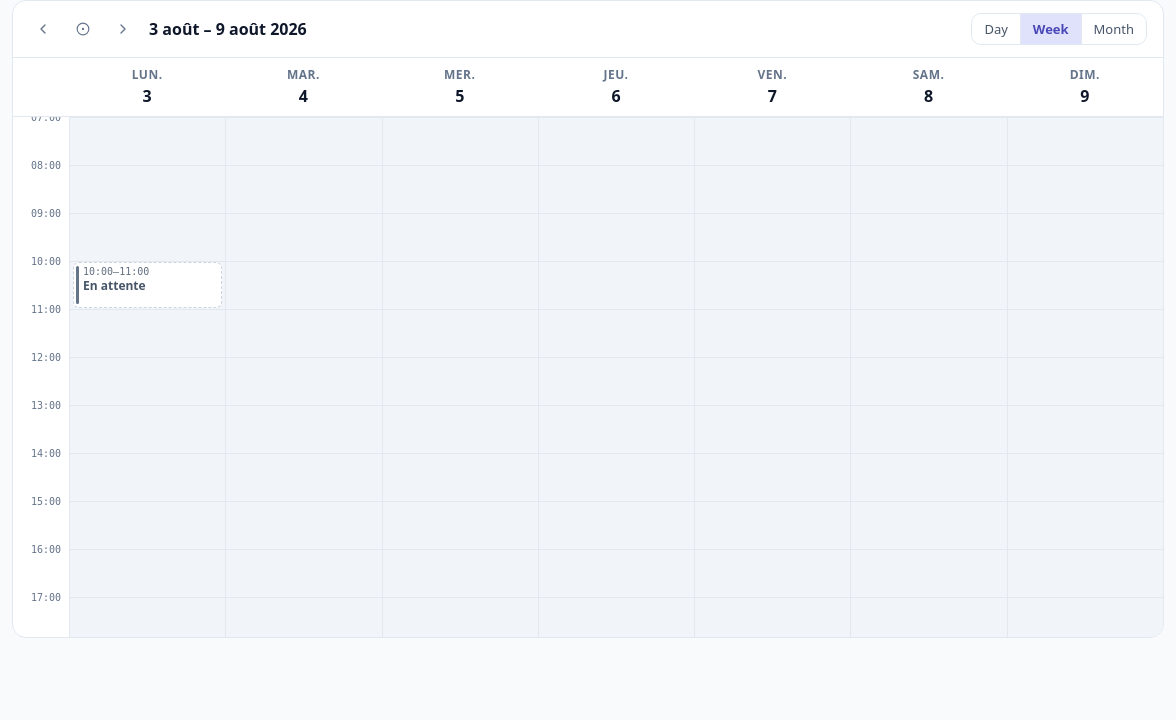
it: CalendarView › uses Intl headings, switches to the month grid, and preserves the same kind modifiers
The width and height of the screenshot is (1176, 720).
expect the text with class "lyra-calview__title" shows "août": met, box [149,18,307,40]
Click the button "Month": {"x": 1113, "y": 29} [1081,14,1146,44]
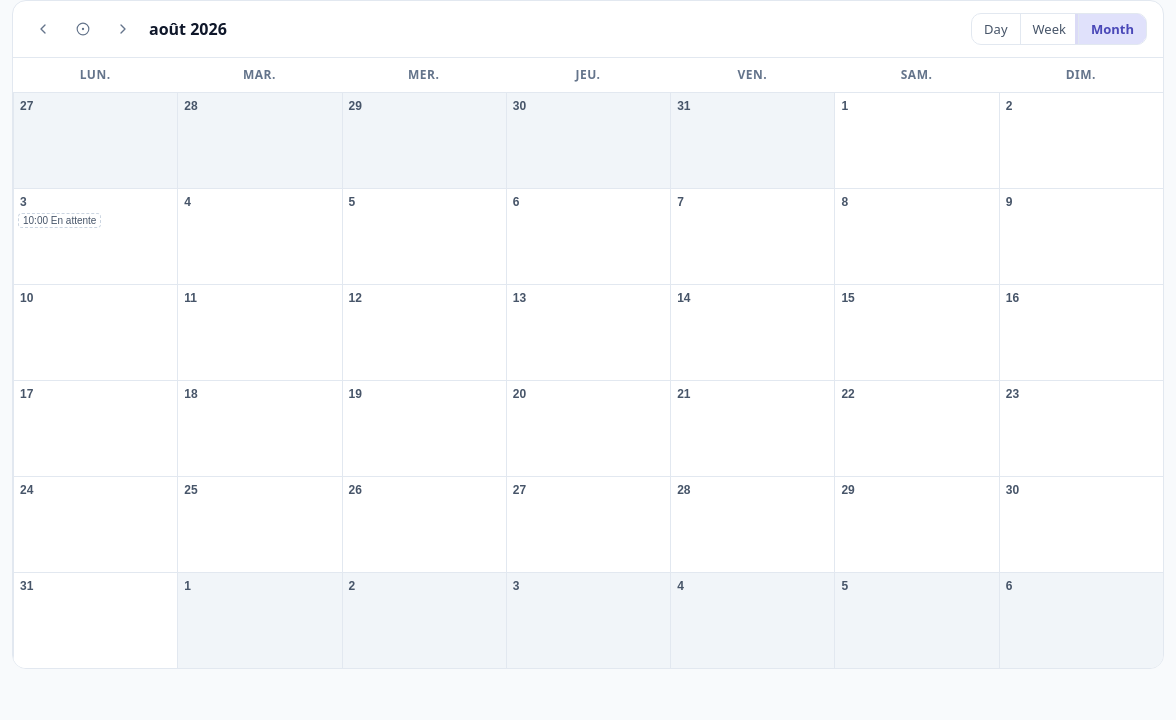
expect the button "3 10:00 En attente" is shown: met, box [13,188,177,284]
expect the text "10:00 En attente" is shown: met, box [18,213,101,228]
